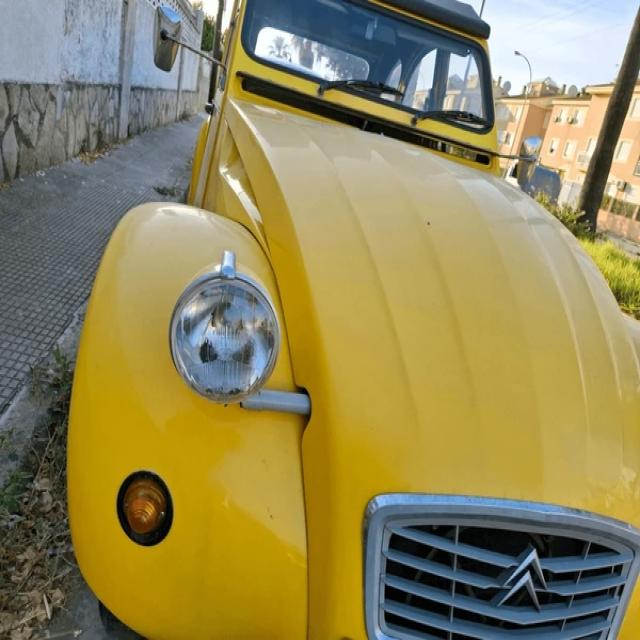citroen: (488, 537, 550, 613)
